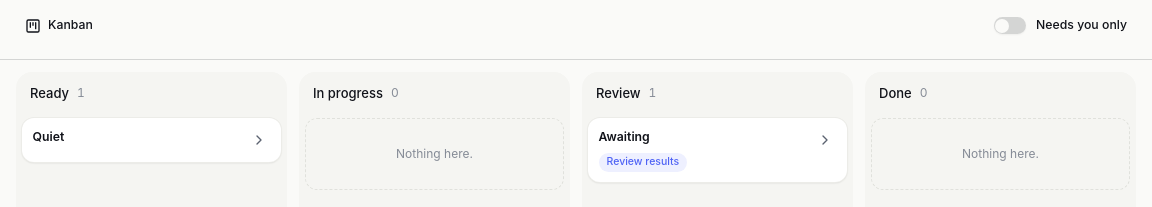
Test: TaskBoardView › narrows to what needs the researcher, keeping counts of what is shown
The width and height of the screenshot is (1152, 207).
Click the switch named "Needs you only" at x=1010, y=26, box [994, 17, 1026, 34]
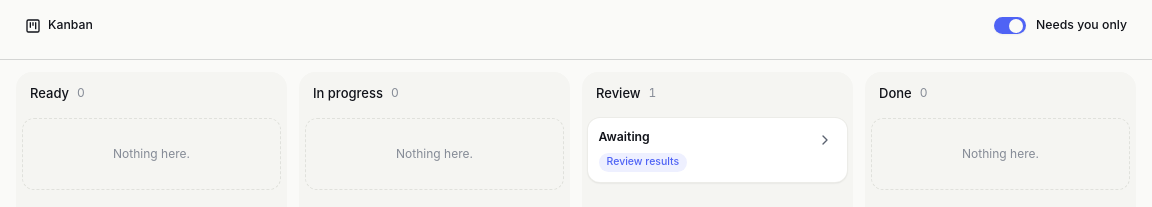
Expected: the text "Awaiting" is shown, [598, 129, 650, 146]
Expected: the button "Quiet" is gone
